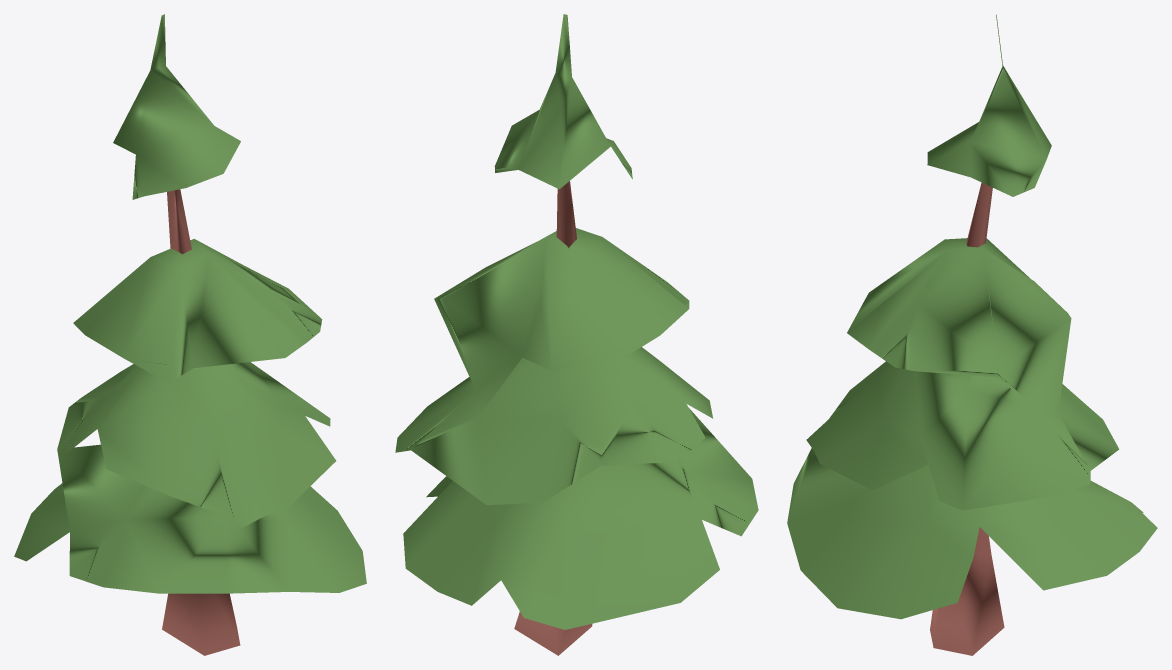
File: PineTree_2_lod.glb
3 views of the same model, side by side, from view 1: azimuth 30°, elevation 25°; view 2: azimuth 150°, elevation 25°; view 3: azimuth 270°, elevation 25° (orthographic). The views are drawn at different scales.
Visible parts, largest first — view 1: PineTree_2; view 2: PineTree_2; view 3: PineTree_2.
Boxes of the visible parts, <box> form: PineTree_2: <box>14,14,366,655</box>; PineTree_2: <box>395,14,758,655</box>; PineTree_2: <box>787,14,1157,655</box>.
Size of the model in its own units: 180 by 356 by 196.
